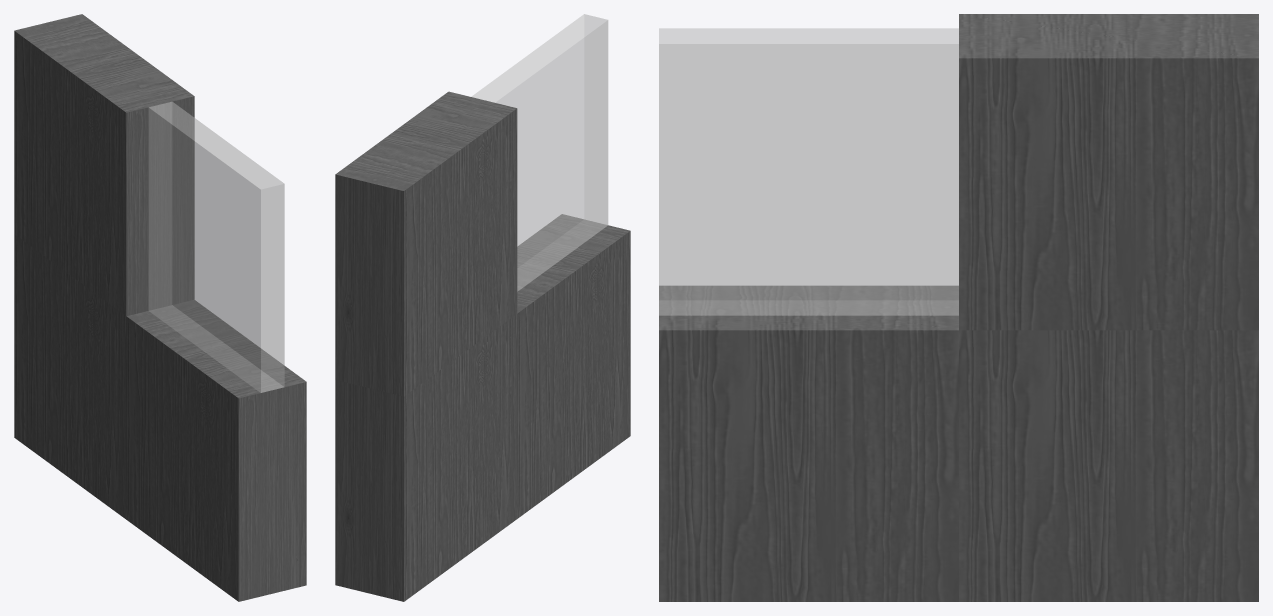
Rendered from corner_window.gltf.
3 renders of one model, left to right at view 1: azimuth 30°, elevation 25°; view 2: azimuth 150°, elevation 25°; view 3: azimuth 270°, elevation 25°, orthographic. The views are drawn at different scales.
Parts seen in each view (by area): view 1: Frame Left Right, Frame Top Bottom, Glass, Frame Corner; view 2: Frame Left Right, Frame Corner, Frame Top Bottom, Glass; view 3: Frame Left Right, Frame Top Bottom, Glass, Frame Corner.
Boxes of the visible parts, box(x1,y1,x2,y2) form: Frame Left Right: box(14, 14, 194, 316); Frame Top Bottom: box(126, 300, 306, 601); Glass: box(148, 102, 284, 392); Frame Corner: box(14, 234, 126, 519); Frame Left Right: box(335, 91, 517, 396); Frame Corner: box(335, 314, 517, 601); Frame Top Bottom: box(517, 214, 630, 518); Glass: box(471, 14, 608, 291); Frame Left Right: box(959, 14, 1258, 330); Frame Top Bottom: box(659, 286, 958, 601); Glass: box(659, 28, 958, 315); Frame Corner: box(959, 330, 1258, 601).
Size of the model in its own units: 1.07 by 6.13 by 6.13.
Materials: 2 (1 with a texture image).
